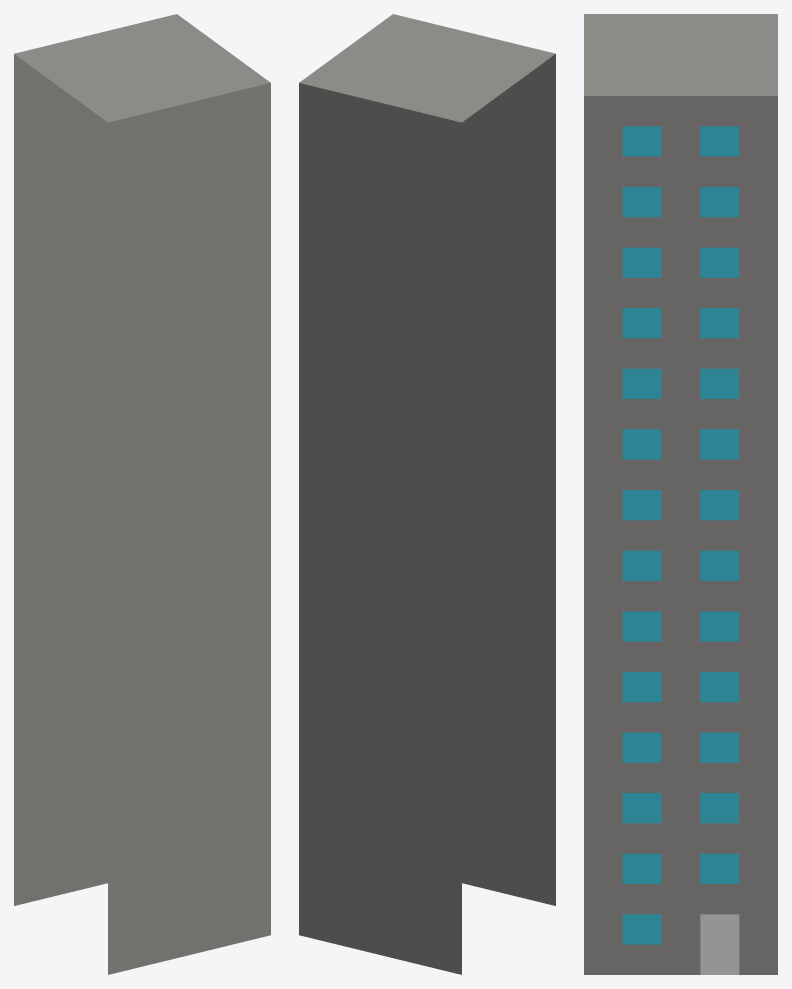
File: TallBuilding.glb
3 renders of one model, left to right at view 1: azimuth 30°, elevation 25°; view 2: azimuth 150°, elevation 25°; view 3: azimuth 270°, elevation 25°, orthographic. The views are drawn at different scales.
Parts seen in each view (by area): view 1: Base; view 2: Base; view 3: Base.
Part boxes in pixels (bbox=[...]): Base: bbox=[14, 14, 270, 974]; Base: bbox=[299, 14, 555, 974]; Base: bbox=[584, 14, 777, 974].
Size of the model in its own units: 1 by 5 by 1.
